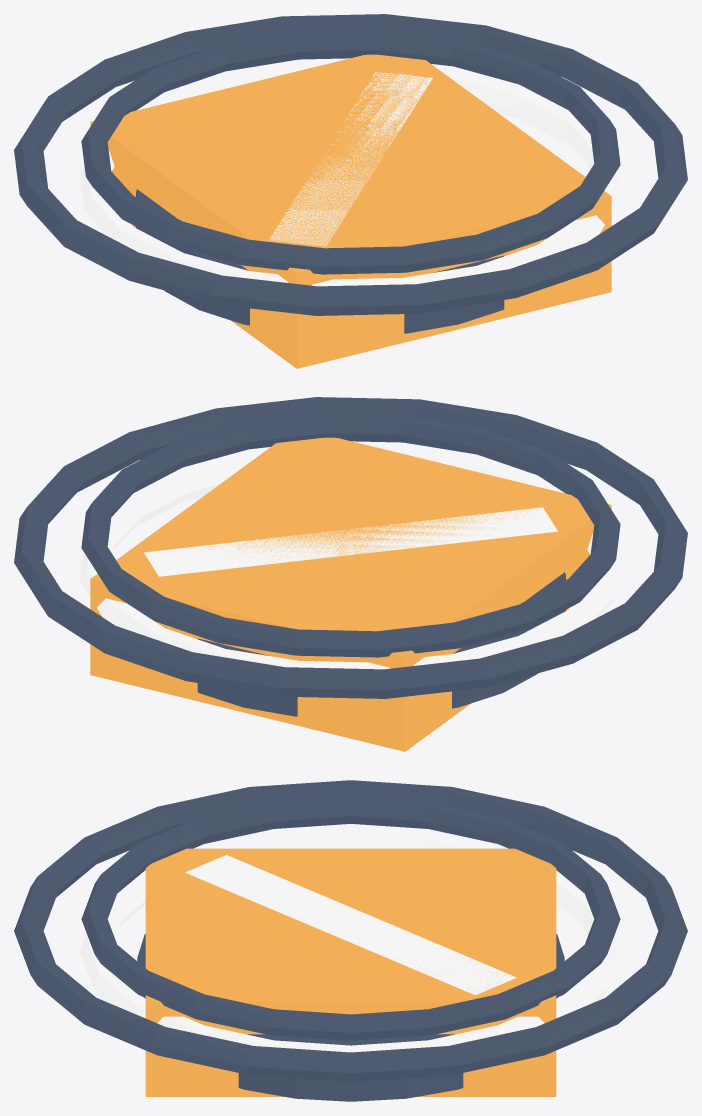
Rendered from marker-pack-lowpoly.glb.
3 views of the same model, one above another, from view 1: azimuth 30°, elevation 25°; view 2: azimuth 150°, elevation 25°; view 3: azimuth 270°, elevation 25° (orthographic).
Visible parts, largest first — view 1: marker_goalie, marker_player, marker_defender; view 2: marker_goalie, marker_player, marker_defender; view 3: marker_goalie, marker_player, marker_defender.
Boxes of the visible parts, bbox=[...] form: marker_goalie: bbox=[81, 31, 620, 368]; marker_player: bbox=[14, 14, 687, 315]; marker_defender: bbox=[136, 71, 504, 333]; marker_goalie: bbox=[81, 414, 620, 751]; marker_player: bbox=[14, 397, 687, 698]; marker_defender: bbox=[144, 507, 565, 716]; marker_goalie: bbox=[81, 797, 620, 1096]; marker_player: bbox=[14, 780, 687, 1081]; marker_defender: bbox=[137, 855, 564, 1101].
Size of the model in its own units: 2.05 by 0.3746 by 2.05.
